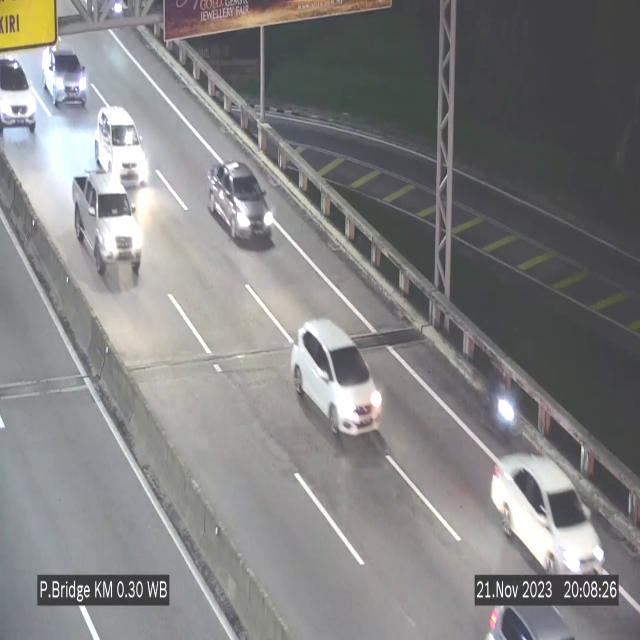Car: (490, 454, 610, 574), (292, 320, 383, 436), (72, 173, 142, 283), (207, 161, 274, 243), (477, 594, 580, 640), (95, 106, 148, 186), (45, 31, 90, 117), (0, 50, 38, 137)
Motorcycle: (490, 368, 524, 453)
